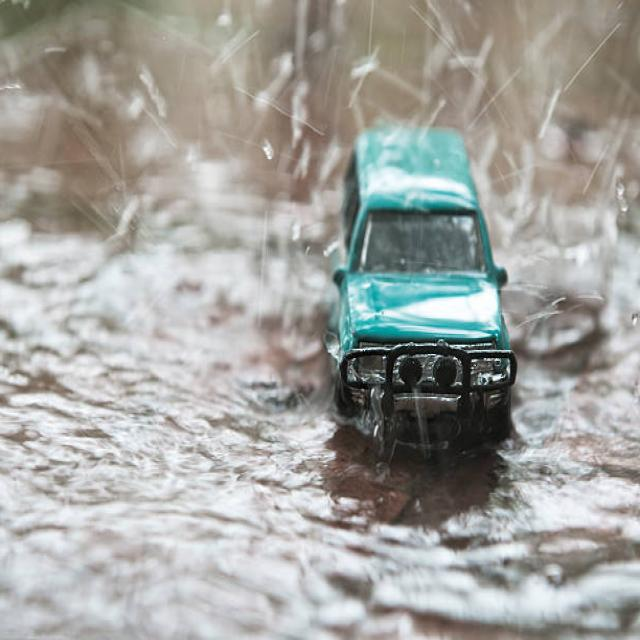Car: (323, 123, 519, 462)
